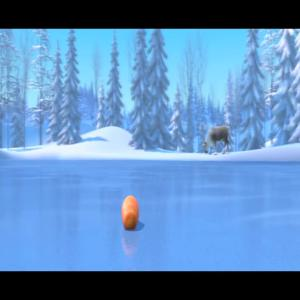carrot: (110, 192, 151, 232)
